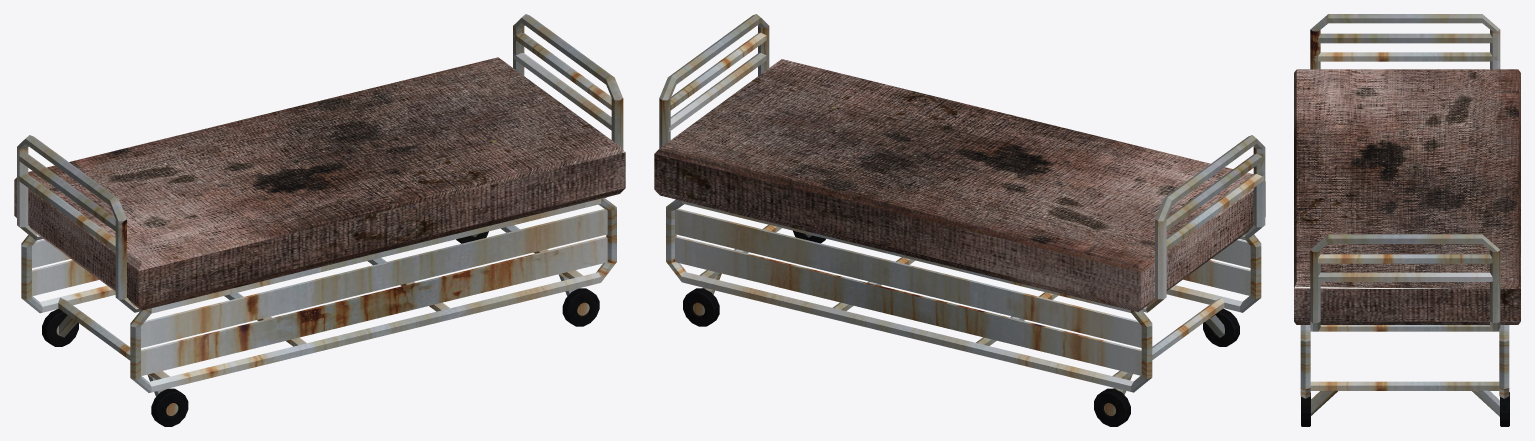
File: Bed.obj
3 views of the same model, side by side, from view 1: azimuth 30°, elevation 25°; view 2: azimuth 150°, elevation 25°; view 3: azimuth 270°, elevation 25° (orthographic). The views are drawn at different scales.
Parts seen in each view (by area): view 1: Cube_Cube.002; view 2: Cube_Cube.002; view 3: Cube_Cube.002.
Boxes of the visible parts, x1,y1,x2,y2 form: Cube_Cube.002: (14, 14, 625, 426); Cube_Cube.002: (654, 14, 1265, 426); Cube_Cube.002: (1294, 14, 1520, 426).
Bounding box in the file's own units: 5.93 × 2.58 × 2.53.
